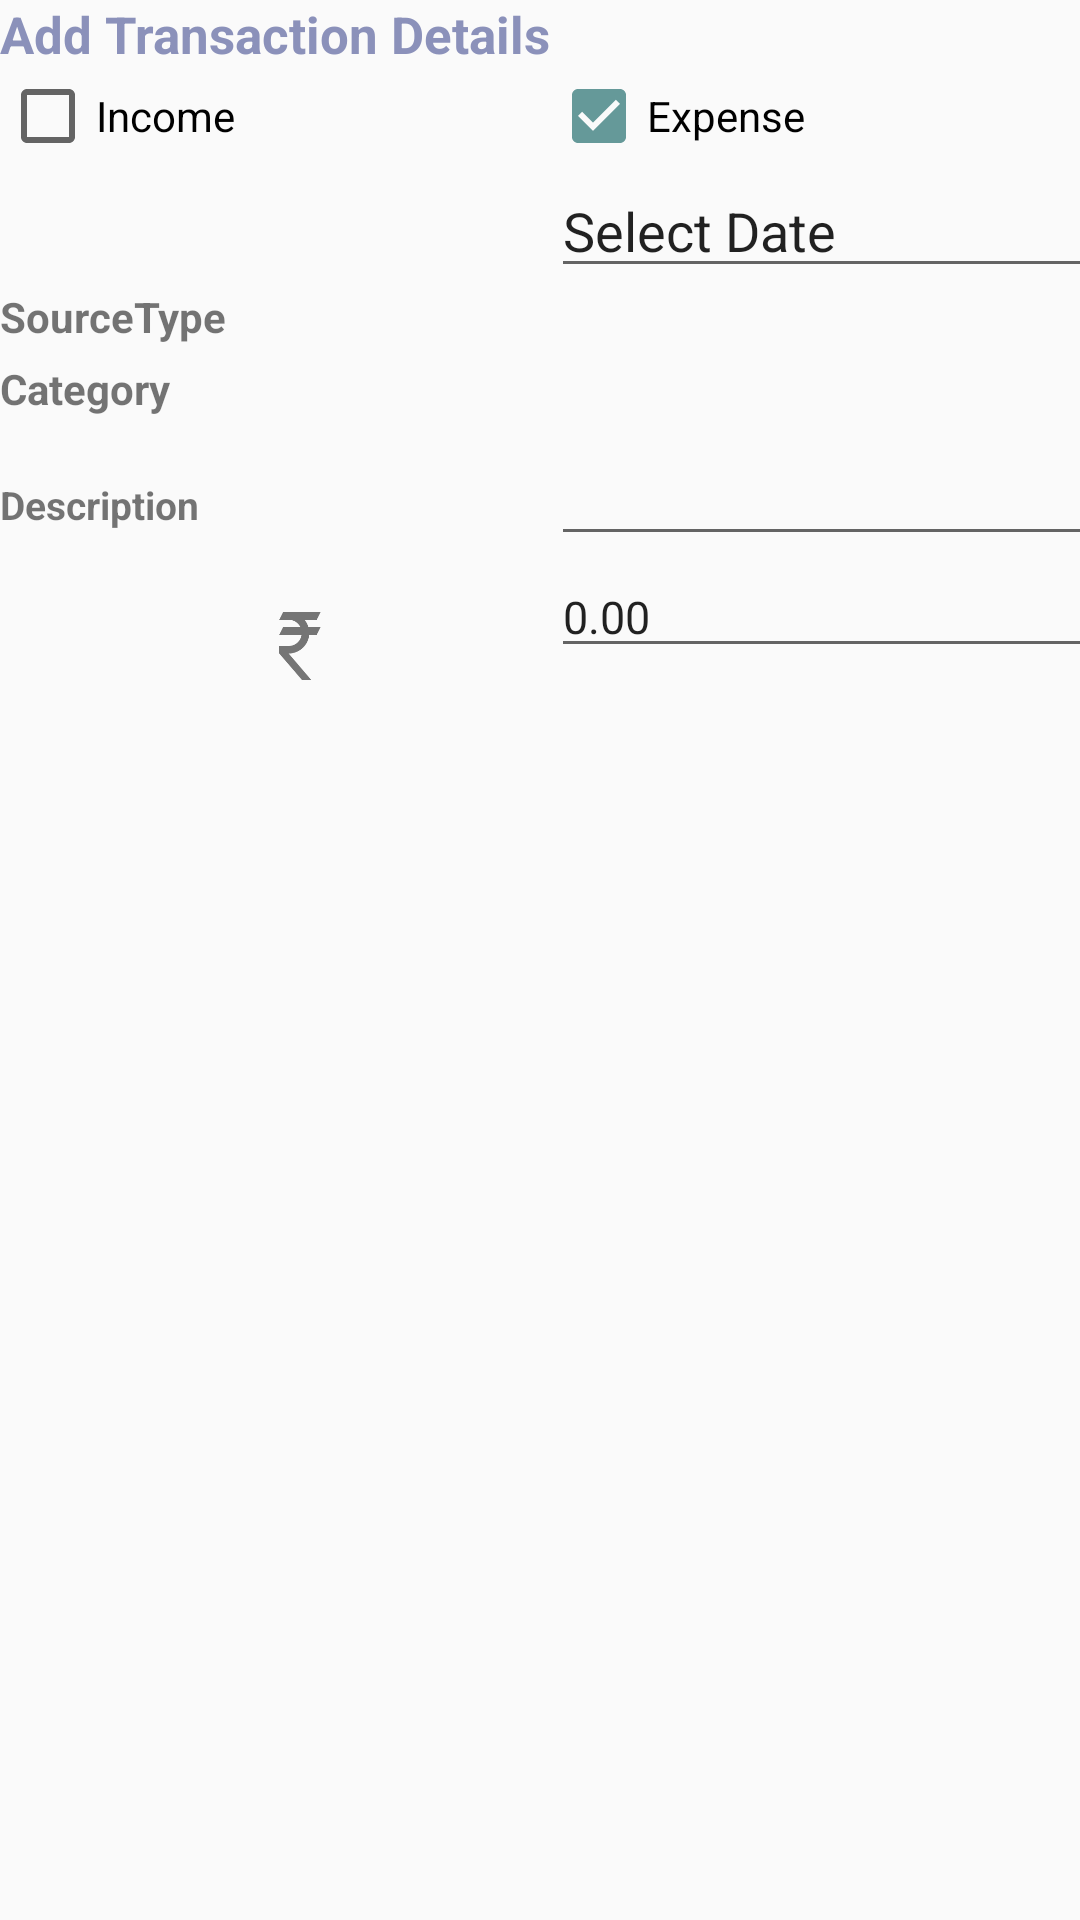

Named icons in this screenshot (1080*1920) and their bounding boxes, (x1, y1, x2, y2):
currency: (279, 612, 321, 680)
